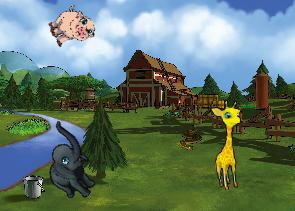elephant: (25, 120, 114, 206)
giraffe: (209, 99, 249, 191)
pig: (44, 1, 98, 54)
